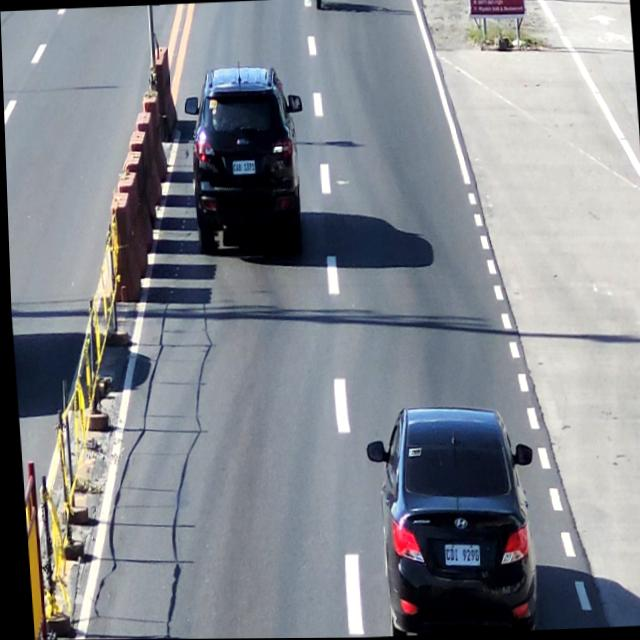Car: (369, 401, 536, 636), (187, 66, 304, 265)
License-Plate: (436, 541, 479, 574), (230, 157, 256, 181)
